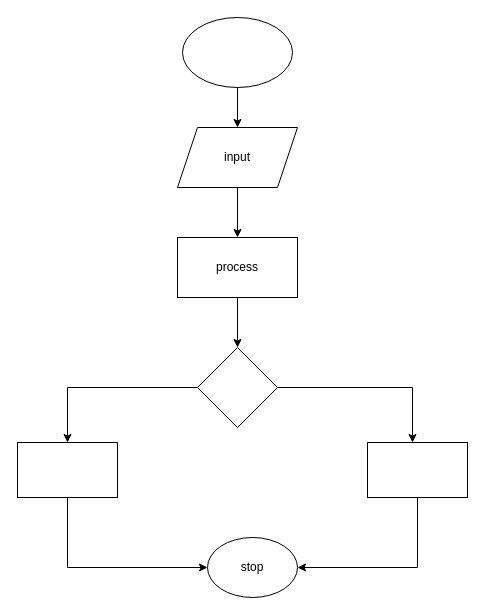
The diagram is 485 pixels wide and 615 high, and some of its shapes have lost their labels. Each missing label, with the centre of its shape:
"Decision" goes at [237,387].
"start" goes at [237,52].
